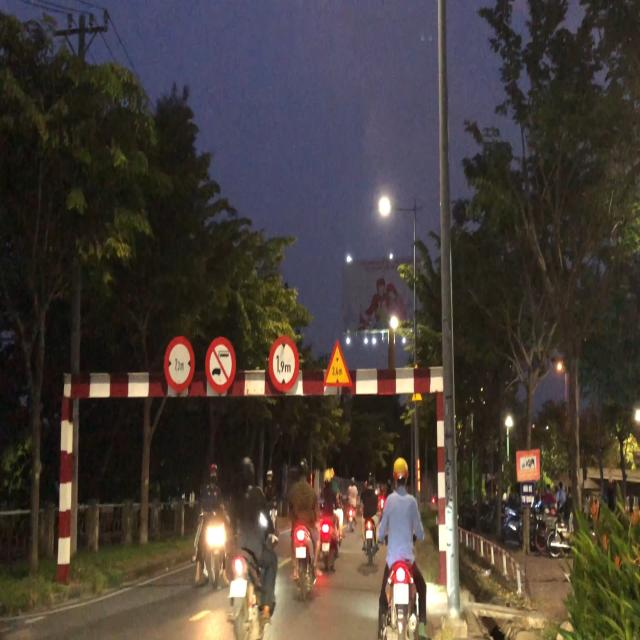Bien bao cam xe oto khach va xe oto tai: (204, 334, 238, 396)
Bien bao chieu cao tinh khong thuc te: (321, 336, 354, 396)
Bien bao han che chieu cao: (266, 329, 301, 394)
